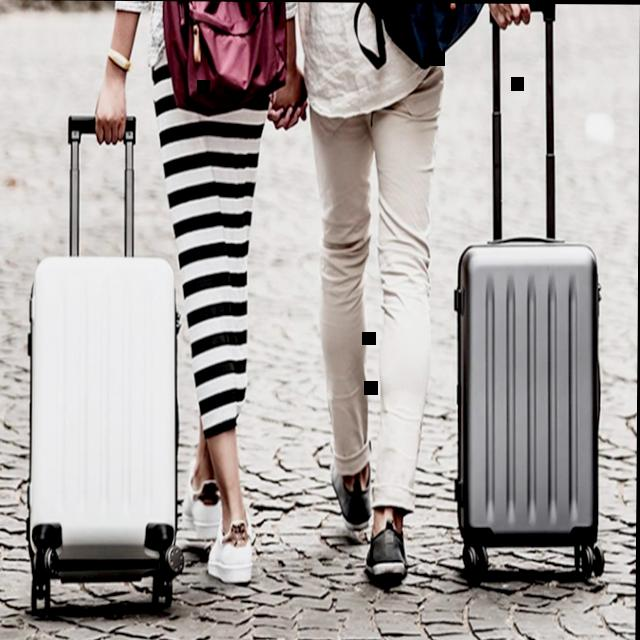luggage: (20, 248, 189, 594), (449, 228, 609, 557)
